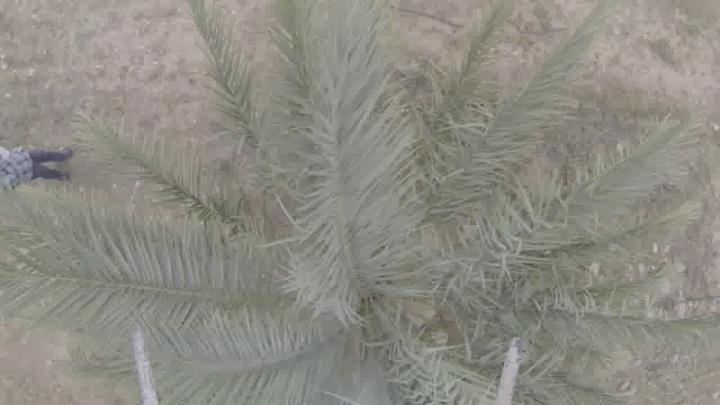Date-Palm-Crown: (192, 119, 552, 403)
